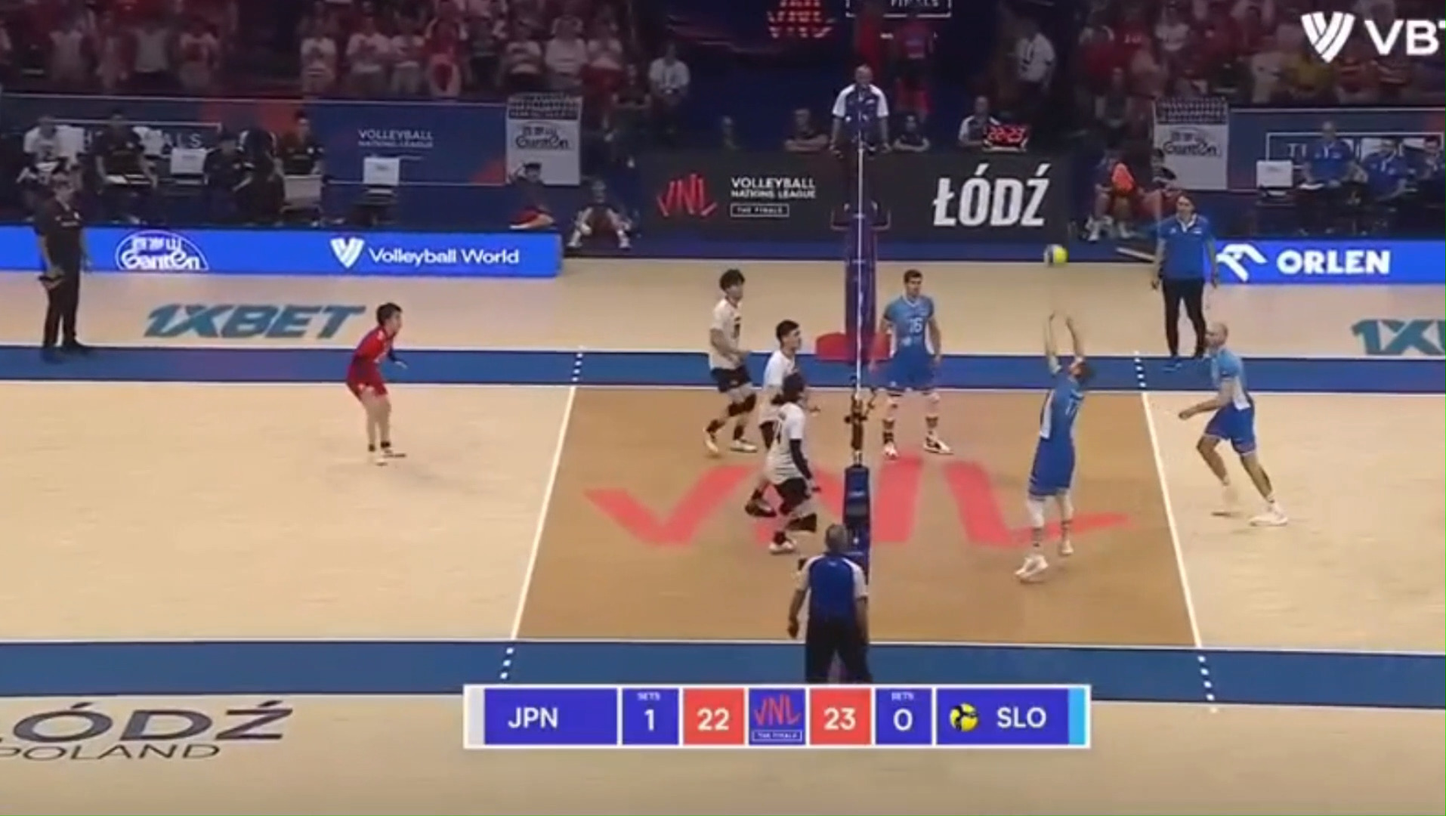ball: (1043, 244, 1068, 266)
player: (1179, 322, 1287, 526), (1015, 313, 1092, 580), (879, 269, 951, 459)
player 1: (744, 320, 802, 517), (763, 369, 817, 553), (345, 302, 405, 464), (706, 269, 757, 455)
referee: (788, 524, 872, 683), (1154, 194, 1218, 361), (829, 64, 891, 230), (34, 174, 88, 359)
